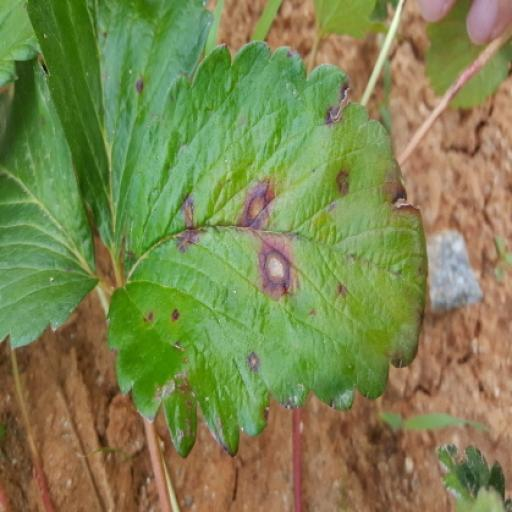Leaf Spot: (104, 40, 428, 460), (23, 0, 214, 264)
